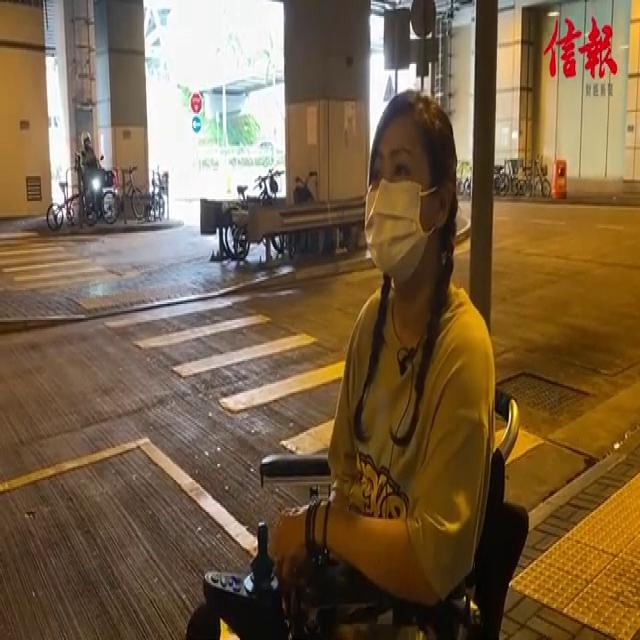wheelchairs: (194, 374, 535, 640)
